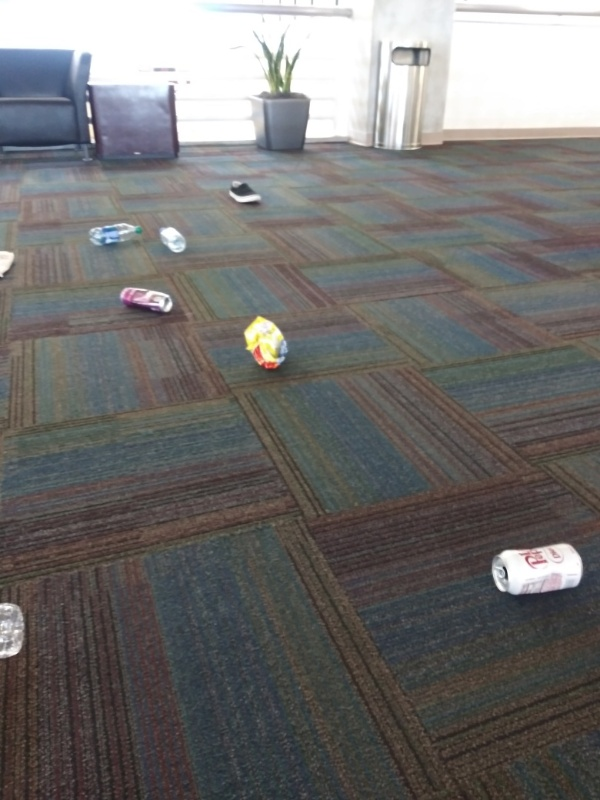bag: (237, 314, 296, 372), (1, 240, 18, 288)
bottle: (83, 219, 148, 246), (1, 596, 28, 661), (157, 221, 188, 255)
can: (489, 542, 589, 606), (118, 284, 177, 316)
